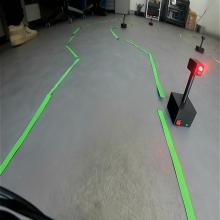red: (187, 57, 205, 77)
